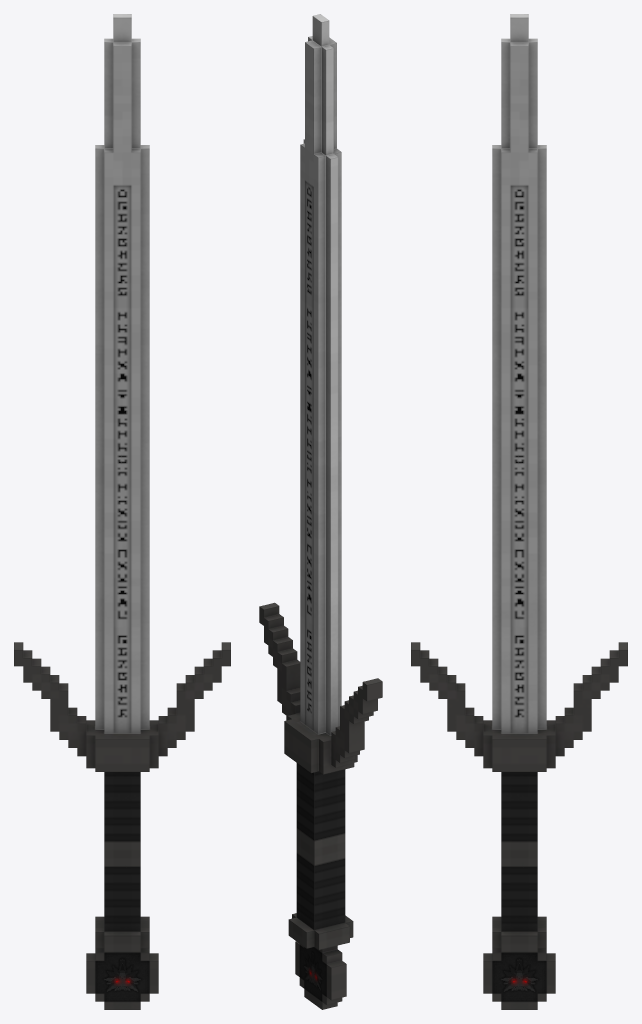
Rendered from RD_SILVER_SWORD.glb.
3 renders of one model, left to right at view 1: azimuth 90°, elevation 25°; view 2: azimuth 210°, elevation 25°; view 3: azimuth 270°, elevation 25°, orthographic.
Visible parts, largest first — view 1: SILVER_SWORD; view 2: SILVER_SWORD; view 3: SILVER_SWORD.
Part boxes in pixels (x1=…): SILVER_SWORD: x1=14, y1=14, x2=230, y2=1009; SILVER_SWORD: x1=259, y1=14, x2=382, y2=1009; SILVER_SWORD: x1=411, y1=14, x2=627, y2=1009.
Bounding box in the file's own units: 0.0827 × 1.67 × 0.3307.
Materials: 1 (1 with a texture image).
